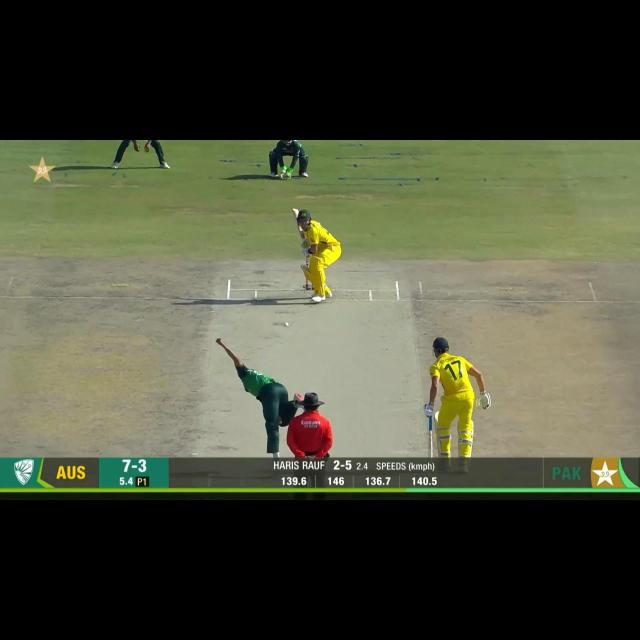bat: (286, 206, 310, 240), (428, 426, 435, 462)
toe: (289, 207, 305, 219)
